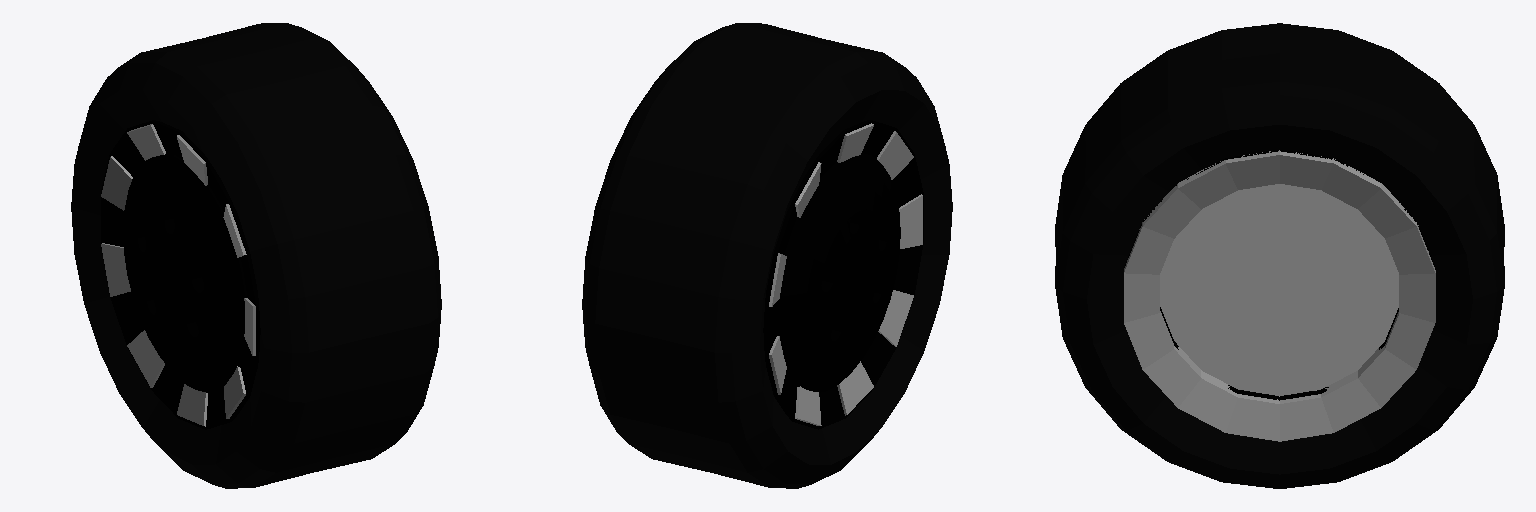
The model's file is llanta.obj.
3 views of the same model, side by side, from view 1: azimuth 30°, elevation 25°; view 2: azimuth 150°, elevation 25°; view 3: azimuth 270°, elevation 25° (orthographic).
Parts seen in each view (by area): view 1: Torus01, Sphere01, Tube01, Tube02; view 2: Torus01, Sphere01, Tube01, Tube02; view 3: Torus01, Cylinder01, Tube02, Tube01.
Part boxes in pixels (bbox=[...]): Torus01: bbox=[71, 23, 441, 488]; Sphere01: bbox=[123, 153, 247, 393]; Tube01: bbox=[101, 120, 260, 429]; Tube02: bbox=[101, 124, 255, 426]; Torus01: bbox=[582, 23, 952, 488]; Sphere01: bbox=[776, 153, 900, 392]; Tube01: bbox=[763, 120, 923, 429]; Tube02: bbox=[769, 123, 922, 425]; Torus01: bbox=[1055, 23, 1504, 488]; Cylinder01: bbox=[1160, 184, 1398, 395]; Tube02: bbox=[1124, 150, 1435, 441]; Tube01: bbox=[1124, 150, 1435, 400].
Size of the model in its own units: 2.2 by 4.8 by 4.8.